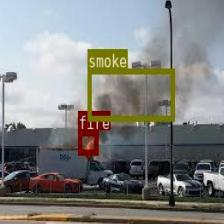fire: (78, 130, 97, 154)
smoke: (87, 68, 173, 120)
